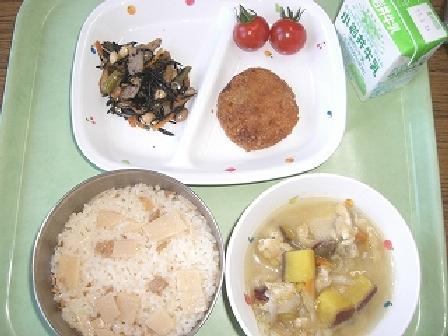Cherry tomatoes: (233, 1, 307, 58)
Milk: (328, 0, 444, 83)
Mixed rice: (25, 175, 220, 335)
Soups: (223, 184, 418, 335)
cutlet: (208, 62, 302, 158)
salad with sauce: (85, 30, 194, 134)
